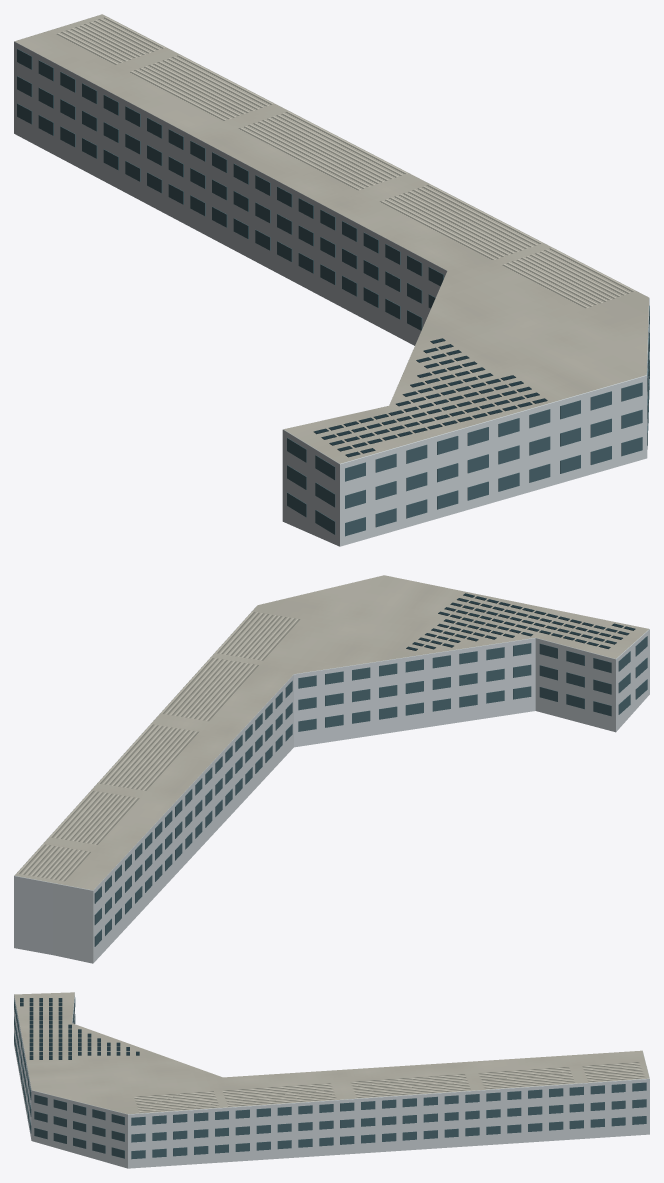
The model's file is intact.glb.
The picture shows the model from 3 angles, top to bottom: view 1: azimuth 30°, elevation 25°; view 2: azimuth 150°, elevation 25°; view 3: azimuth 270°, elevation 25°; orthographic projection. The views are drawn at different scales.
Parts seen in each view (by area): view 1: SM_cheong_Intact_00, SM_cheong_Intact_01, SM_cheong_Intact_02; view 2: SM_cheong_Intact_00, SM_cheong_Intact_01, SM_cheong_Intact_02; view 3: SM_cheong_Intact_00, SM_cheong_Intact_01, SM_cheong_Intact_02.
Part boxes in pixels (box(x1,y1,x2,y2)): SM_cheong_Intact_00: box(14, 14, 649, 546); SM_cheong_Intact_01: box(17, 49, 649, 536); SM_cheong_Intact_02: box(313, 338, 547, 457); SM_cheong_Intact_00: box(14, 575, 649, 963); SM_cheong_Intact_01: box(94, 636, 647, 946); SM_cheong_Intact_02: box(406, 593, 635, 650); SM_cheong_Intact_00: box(14, 992, 649, 1168); SM_cheong_Intact_01: box(14, 997, 646, 1159); SM_cheong_Intact_02: box(20, 998, 139, 1059).
Size of the model in its own units: 1 by 0.2167 by 2.2.
5 materials, 1 textured.
